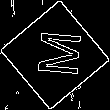M_W: (28, 29, 82, 81)
